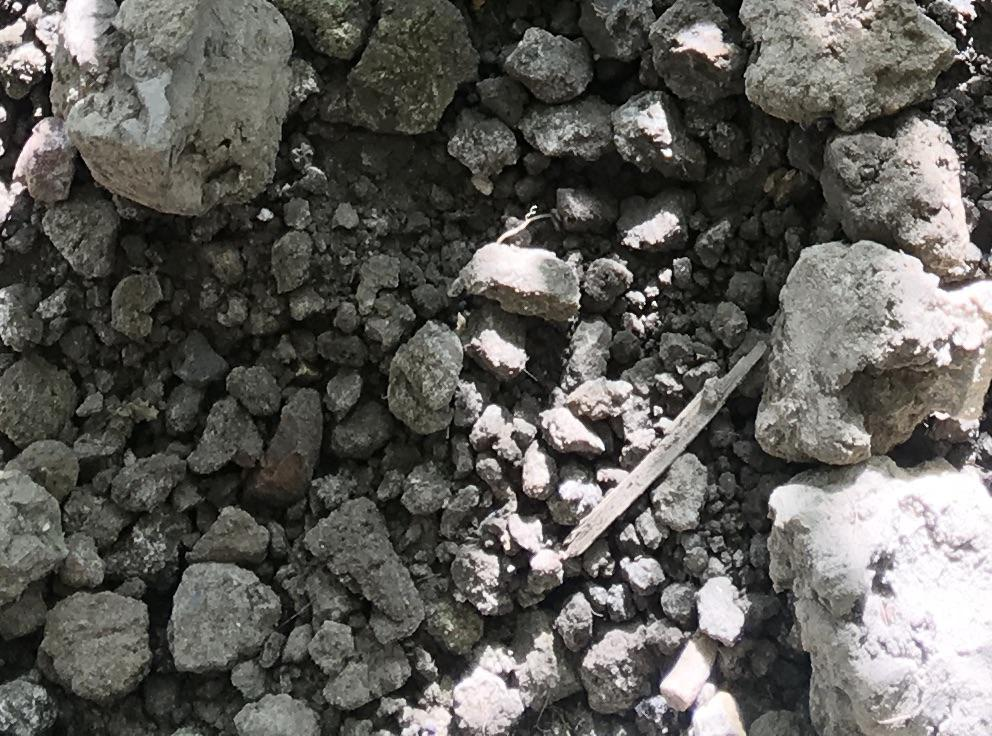block: (767, 469, 992, 733), (54, 1, 292, 222), (754, 242, 989, 465), (739, 2, 967, 122)
